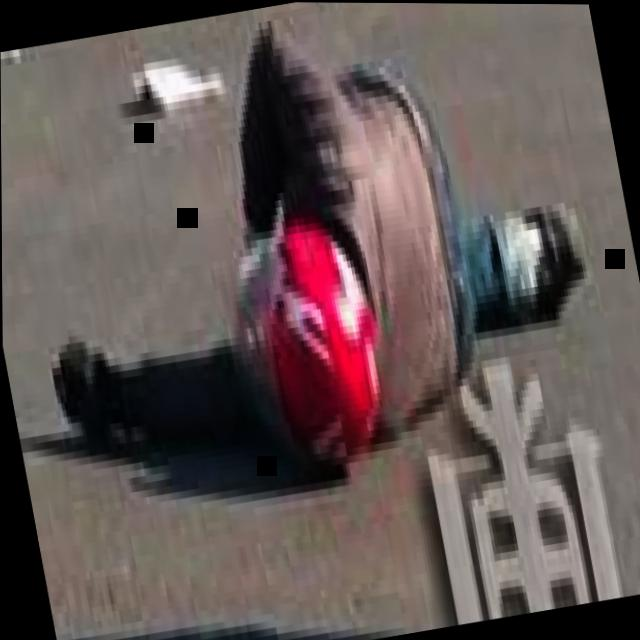Fall-Detected: (0, 0, 613, 515)
